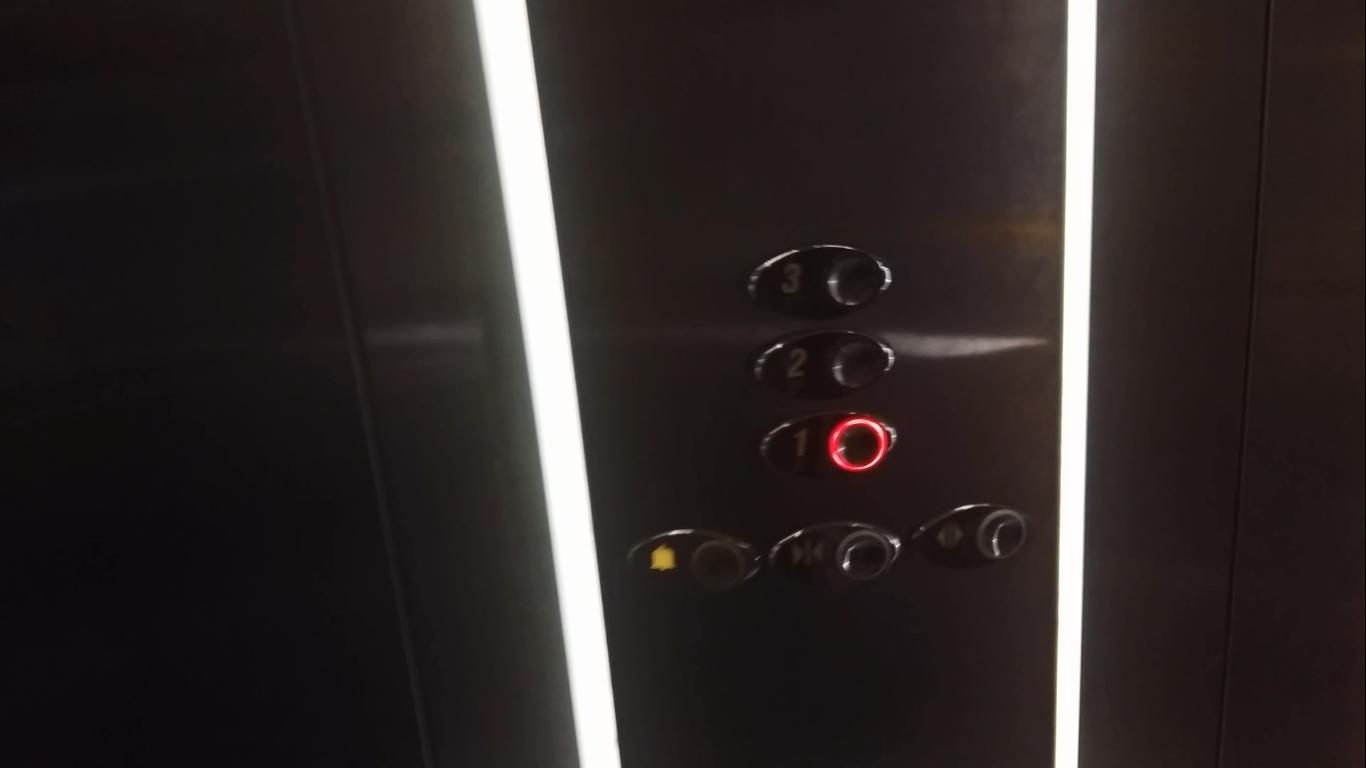1: (752, 405, 908, 481)
2: (747, 324, 903, 400)
3: (743, 242, 899, 318)
alarm: (611, 525, 767, 601)
close: (765, 515, 909, 590)
open: (905, 498, 1046, 571)
